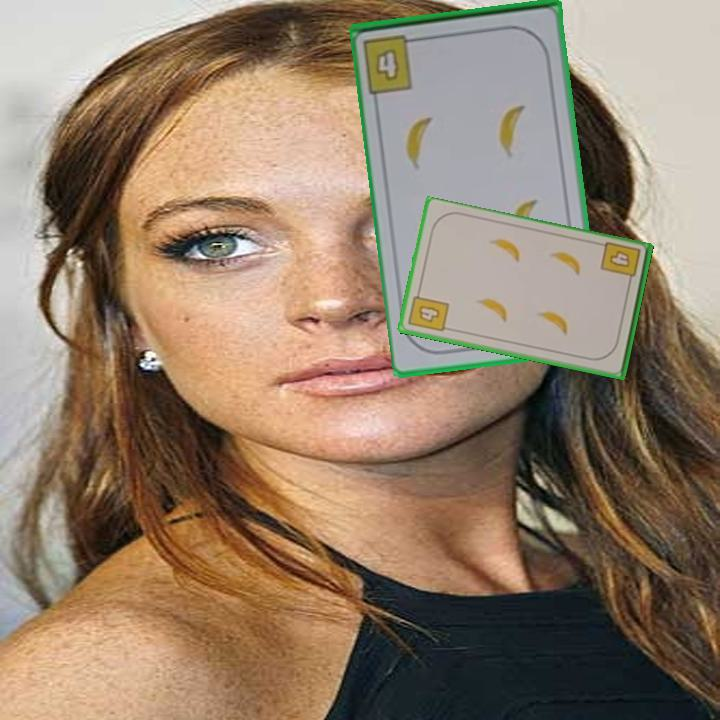4b: (360, 31, 425, 96), (405, 286, 452, 335), (597, 239, 643, 289)
